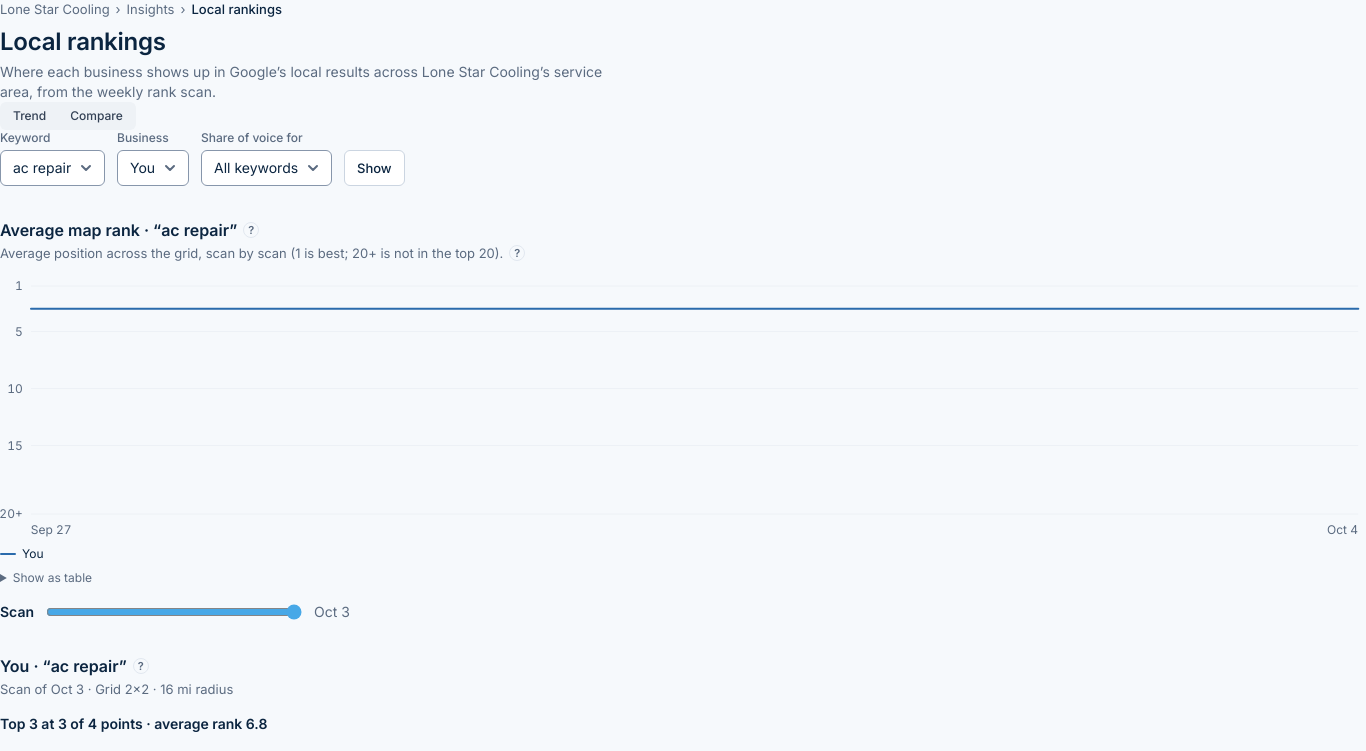
it: client batch A: Rankings scan facts come from the code › the average rank tip says a point outside the first 20 counts as 21
The image size is (1366, 751).
Click the button named "Average map rank".
click(251, 230)  # box left=243, top=222, right=259, bottom=238
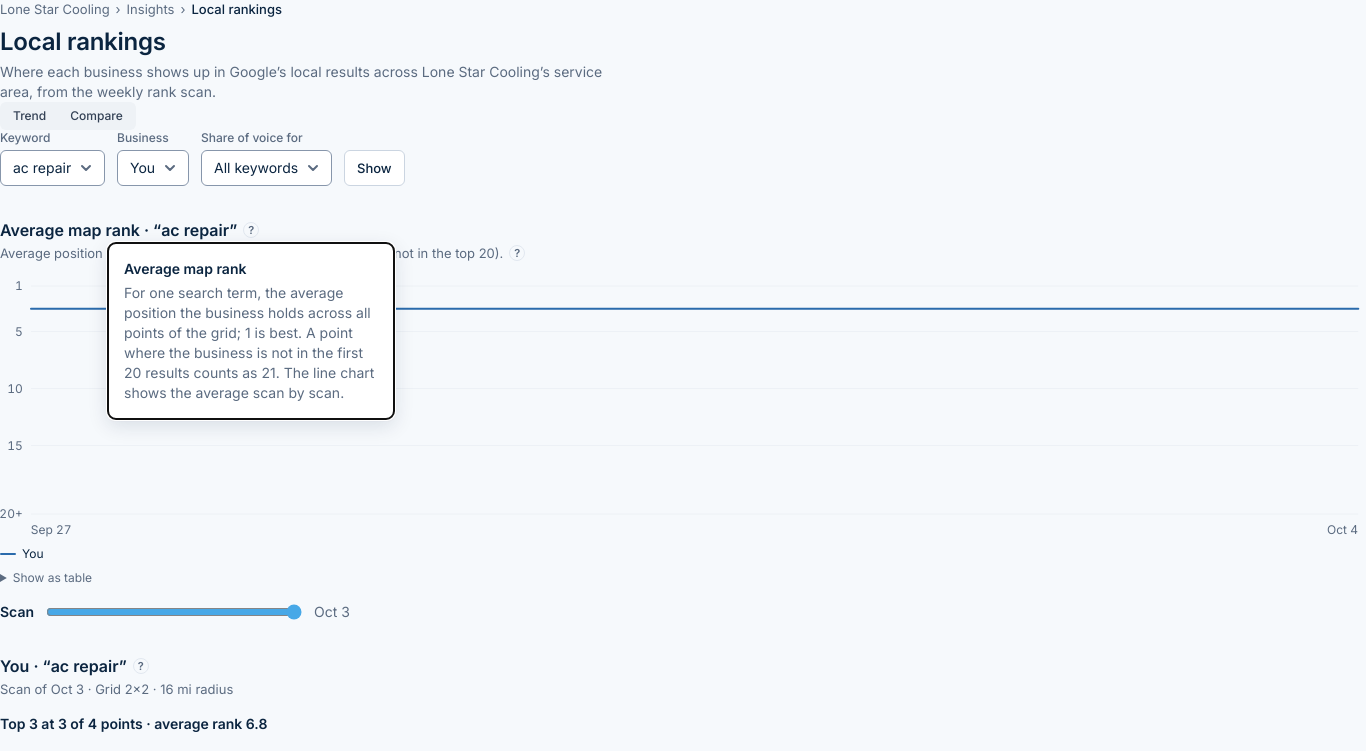
Expected: the text "counts as 21" is shown, left=124, top=284, right=374, bottom=401
